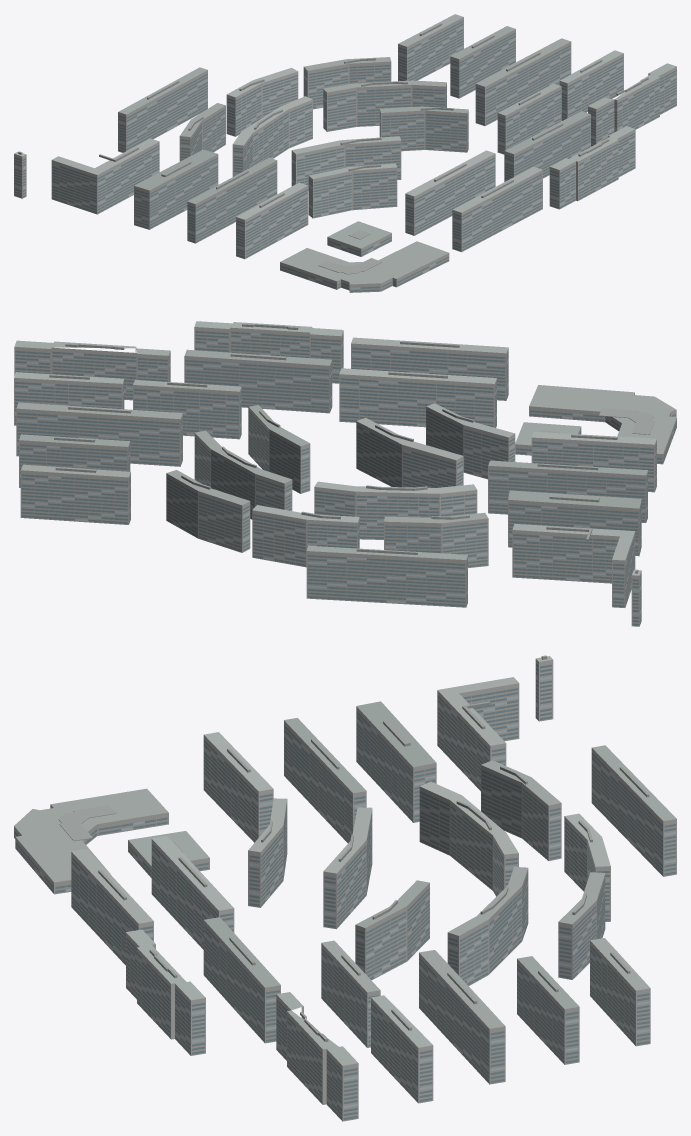
The model's file is apt-a13583507.glb.
3 views of the same model, one above another, from view 1: azimuth 30°, elevation 25°; view 2: azimuth 150°, elevation 25°; view 3: azimuth 270°, elevation 25° (orthographic). The views are drawn at different scales.
Visible parts, largest first — view 1: apt-a13583507; view 2: apt-a13583507; view 3: apt-a13583507.
Boxes of the visible parts, x1=… form: apt-a13583507: x1=14, y1=14, x2=676, y2=292; apt-a13583507: x1=14, y1=321, x2=676, y2=626; apt-a13583507: x1=14, y1=655, x2=676, y2=1121.
Bounding box in the file's own units: 668 × 47.81 × 461.
